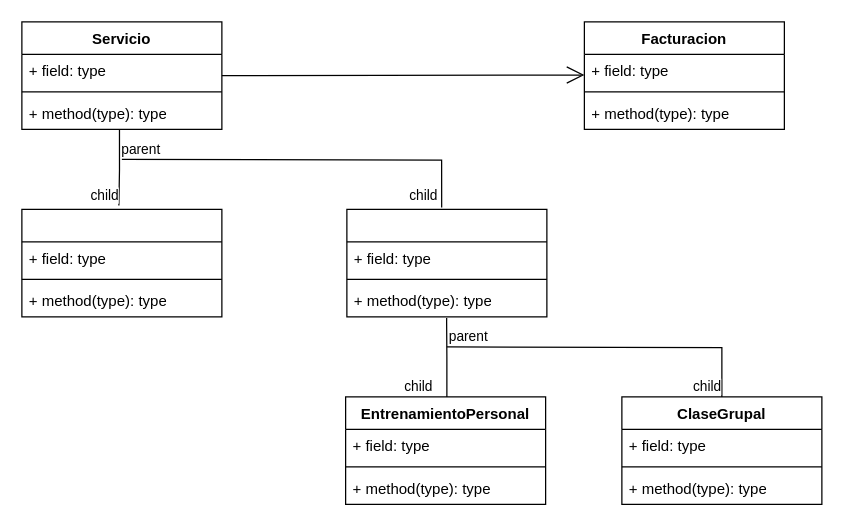
Image size: 844x530. Some labels were removed from this diagram. The box of each missing label's shape, as (x1, y1, x2, y2) in pixels:
ServicioDeportivo: (346, 208, 547, 317)
Suplemento: (21, 208, 222, 317)
